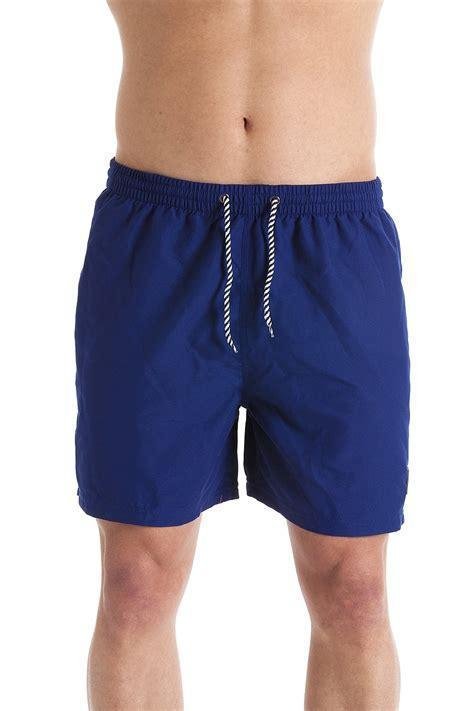short: (74, 155, 412, 535)
